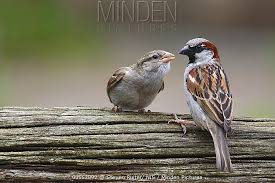hsparrow: (179, 35, 244, 182), (101, 48, 177, 116)
